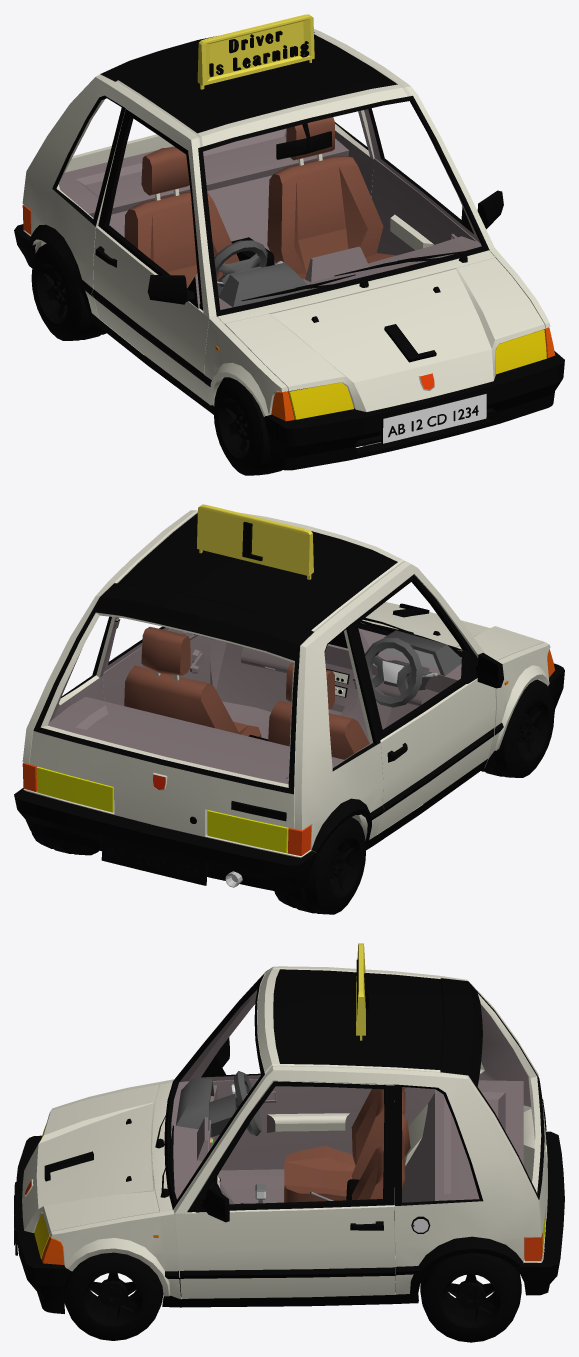
The model's file is New Learning Car.fbx.
3 views of the same model, one above another, from view 1: azimuth 30°, elevation 25°; view 2: azimuth 150°, elevation 25°; view 3: azimuth 270°, elevation 25° (orthographic). The views are drawn at different scales.
Visible parts, largest first — view 1: Body, Bonet, Doors_R, Bumper_F, Body.001, Body.005, Doors_L, Cube.003, Wheel_FR, Wheel_RR, Fender_FR, TurnSignal_FR (+13 smaller); view 2: Body, Bootlid, Doors_R, Bumper_R, Body.001, Cube.003, Wheel_RR, Lights_RR, Wheel_FR, Bonet, Fender_FR, Body.005 (+7 smaller); view 3: Body, Doors_L, Bonet, Doors_R, Wheel_RL, Wheel_FL, Bootlid, Fender_FL, Body.005, Bumper_R, Bumper_F, InteriorAssymetry (+7 smaller).
Boxes of the visible parts, <box> form: Body: <box>22,29,494,413</box>; Bonet: <box>224,257,545,411</box>; Doors_R: <box>91,109,209,403</box>; Bumper_F: <box>264,351,564,470</box>; Body.001: <box>267,117,396,279</box>; Body.005: <box>124,147,239,295</box>; Doors_L: <box>364,108,480,255</box>; Cube.003: <box>197,14,314,89</box>; Wheel_FR: <box>213,377,297,475</box>; Wheel_RR: <box>31,243,106,340</box>; Fender_FR: <box>203,316,288,416</box>; TurnSignal_FR: <box>288,329,546,419</box>; Body: <box>22,510,487,857</box>; Bootlid: <box>29,583,314,836</box>; Doors_R: <box>351,574,495,834</box>; Bumper_R: <box>14,788,317,893</box>; Body.001: <box>124,627,261,737</box>; Cube.003: <box>197,504,313,579</box>; Wheel_RR: <box>274,817,365,914</box>; Lights_RR: <box>36,766,288,853</box>; Wheel_FR: <box>481,679,554,777</box>; Bonet: <box>362,602,544,660</box>; Fender_FR: <box>484,642,550,768</box>; Body.005: <box>268,663,369,759</box>; Body: <box>152,966,546,1307</box>; Doors_L: <box>175,1081,395,1298</box>; Bonet: <box>22,1084,159,1234</box>; Doors_R: <box>188,994,371,1170</box>; Wheel_RL: <box>420,1253,521,1342</box>; Wheel_FL: <box>64,1252,163,1340</box>; Bootlid: <box>440,978,547,1232</box>; Fender_FL: <box>49,1210,181,1307</box>; Body.005: <box>284,1087,405,1202</box>; Bumper_R: <box>516,1131,564,1295</box>; Bumper_F: <box>15,1135,71,1313</box>; InteriorAssymetry: <box>176,1078,214,1130</box>.
Size of the model in its own units: 119 by 102 by 165.
